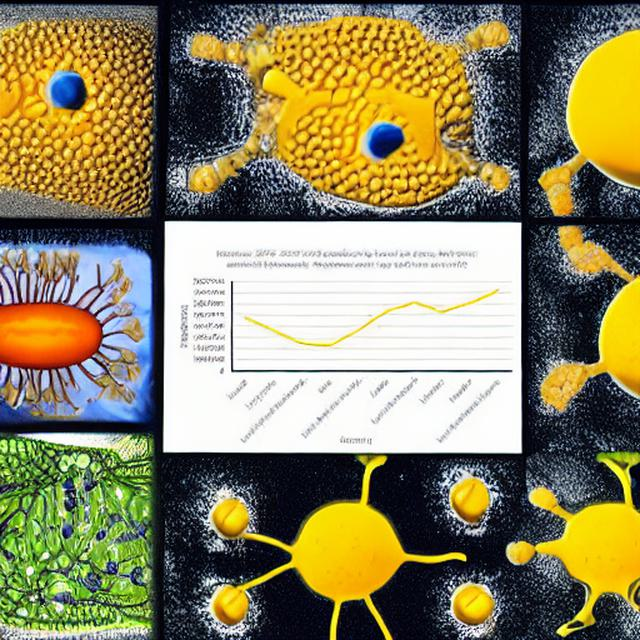Graph: (174, 243, 520, 449)
